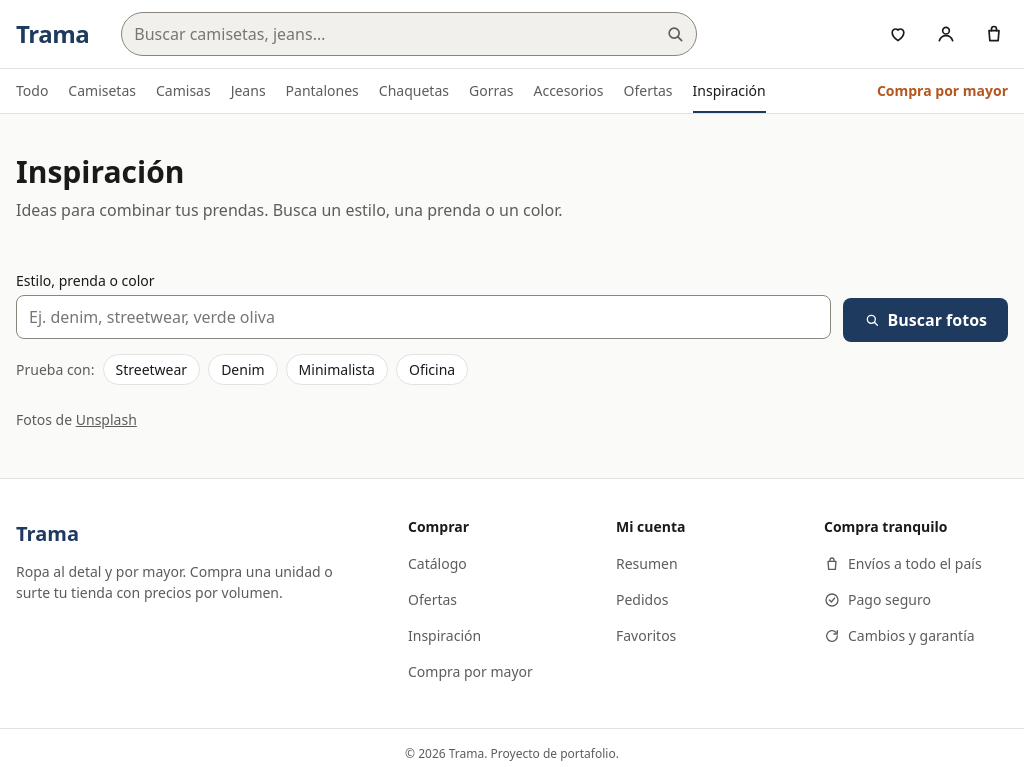
Test: Inspiración (Unsplash) › sin palabra clave no busca y muestra el error
Click the button "Buscar fotos" at (925, 320), box [843,298,1008,342]
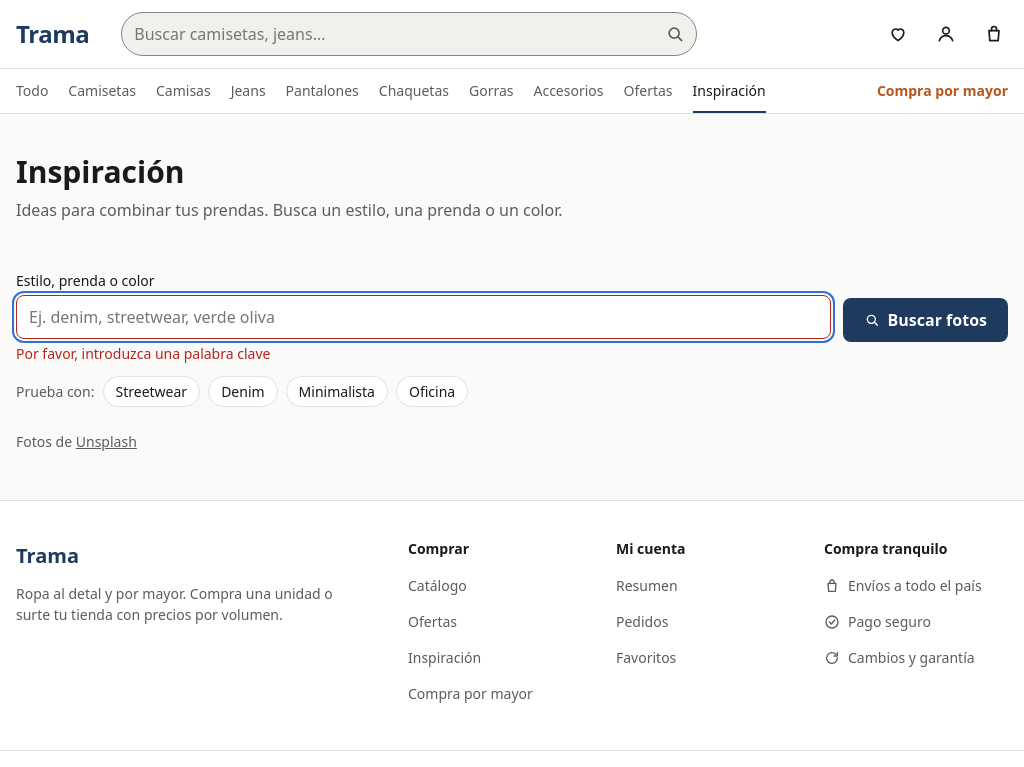
Expected: the text "Por favor, introduzca una palabra clave" is shown, [16,344,270,363]
